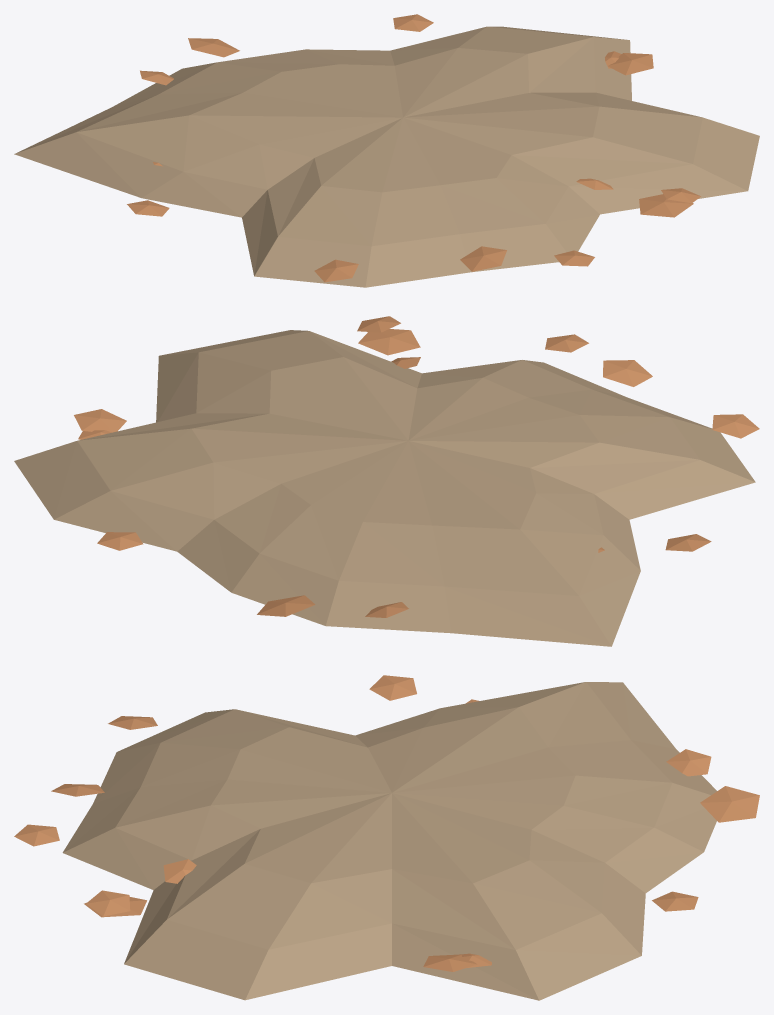
Rendered from temperate-forest-ecology-leaf-litter-drift-ffe00467__3860.glb.
3 renders of one model, top to bottom at view 1: azimuth 30°, elevation 25°; view 2: azimuth 150°, elevation 25°; view 3: azimuth 270°, elevation 25°, orthographic. The views are drawn at different scales.
Visible parts, largest first — view 1: leaf-litter-drift; view 2: leaf-litter-drift; view 3: leaf-litter-drift.
Part boxes in pixels (box(x1,y1,x2,y2)): leaf-litter-drift: box(14, 14, 759, 287); leaf-litter-drift: box(14, 316, 759, 646); leaf-litter-drift: box(14, 675, 759, 1000).
Bounding box in the file's own units: 2.18 × 0.1499 × 2.16.
